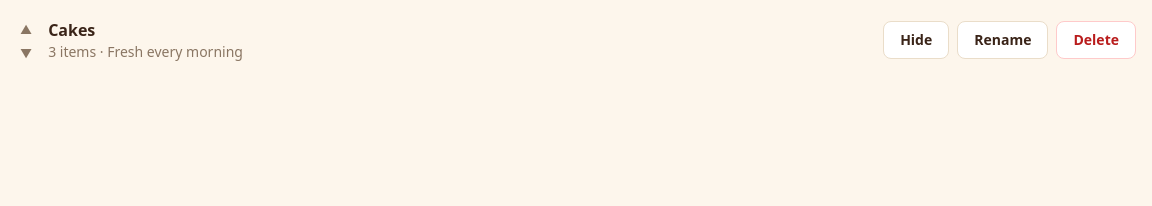
it: deleting › asks first, naming the category
Click the button "Delete": click(1096, 40) [1056,21,1136,59]
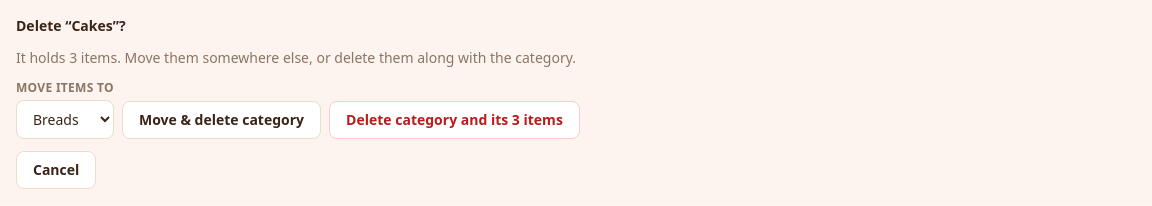
Expected: the text "Delete “Cakes”?" is shown, [16,16,126,35]
